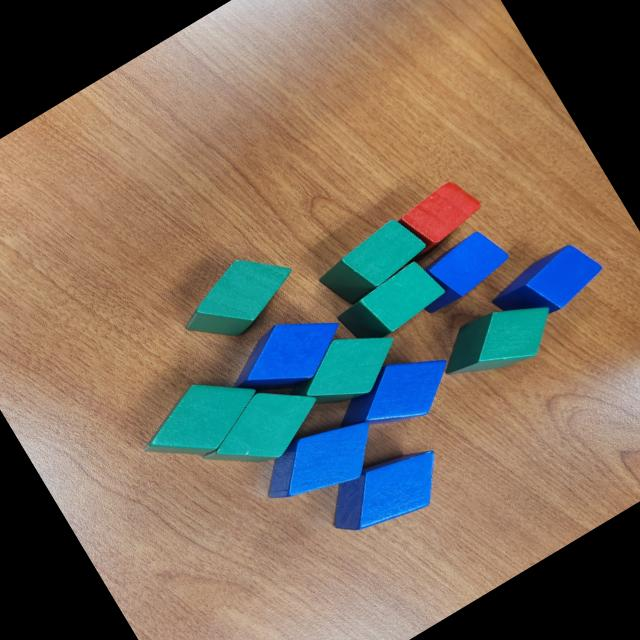blue: (316, 430, 460, 552), (322, 336, 466, 458), (218, 295, 358, 417), (252, 403, 392, 522), (485, 232, 612, 338), (403, 222, 516, 318)
green: (126, 357, 274, 482), (189, 368, 334, 492), (168, 237, 308, 359), (429, 282, 568, 400), (285, 312, 413, 424), (310, 210, 435, 314), (334, 252, 454, 352)
red: (392, 172, 490, 258)
